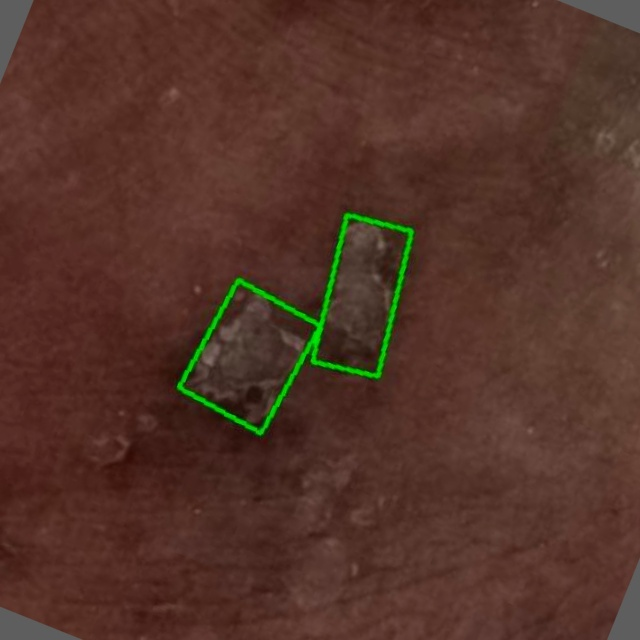Eczema: (177, 280, 319, 433), (312, 216, 410, 377)
